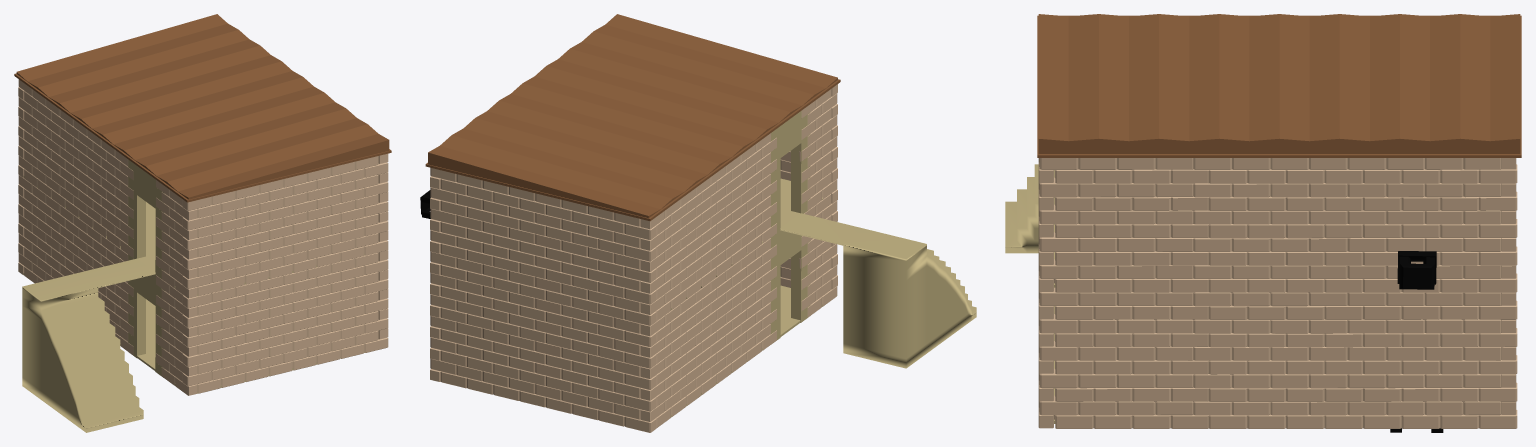
Rendered from 2 Story Building.fbx.
3 views of the same model, side by side, from view 1: azimuth 30°, elevation 25°; view 2: azimuth 150°, elevation 25°; view 3: azimuth 270°, elevation 25° (orthographic). The views are drawn at different scales.
Visible parts, largest first — view 1: Roof.001, Walls.001, Walls, Floor.001, Door part.001, Door part, Floor; view 2: Roof.001, Walls, Walls.001, Floor.001, Door part.001, Door part, Floor; view 3: Roof.001, Walls, Walls.001, Floor.001, Fire Cooker.
Part boxes in pixels (x1,y1,x2,y2): Roof.001: [14, 14, 391, 202]; Walls.001: [18, 79, 388, 298]; Walls: [18, 175, 388, 395]; Floor.001: [22, 176, 364, 432]; Door part.001: [128, 159, 164, 278]; Door part: [128, 255, 164, 377]; Floor: [23, 273, 364, 395]; Roof.001: [425, 14, 840, 221]; Walls: [430, 189, 837, 432]; Walls.001: [430, 84, 837, 325]; Floor.001: [671, 178, 976, 368]; Door part.001: [770, 111, 810, 233]; Door part: [770, 230, 810, 344]; Floor: [671, 285, 837, 417]; Roof.001: [1037, 14, 1521, 157]; Walls: [1038, 287, 1517, 428]; Walls.001: [1038, 158, 1517, 292]; Floor.001: [1005, 164, 1055, 287]; Fire Cooker: [1390, 251, 1443, 432].
Size of the model in its own units: 4567 by 2648 by 4124.
